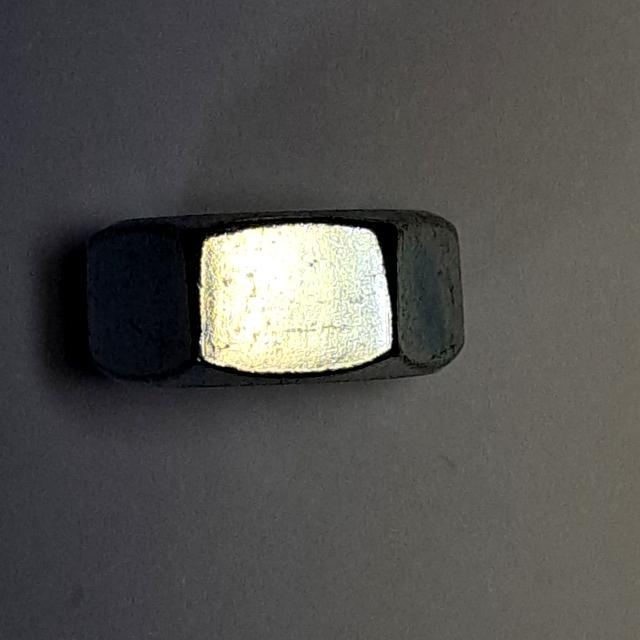Side_Excellent: (70, 188, 478, 405)
